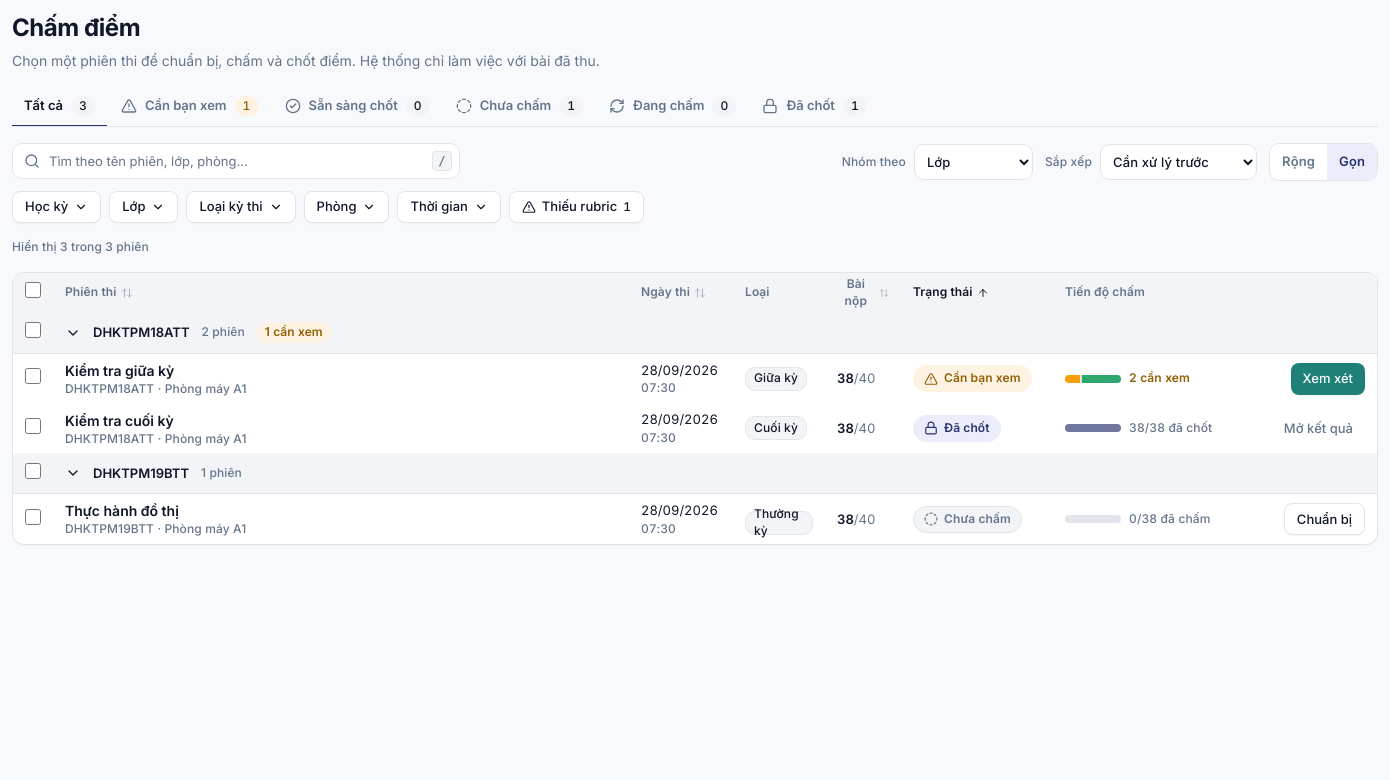
SessionList — review fixes › I4: rows inside a collapsed group are no longer part of the selection
What coordinates should you click on to do the following:
click the checkbox named "Chọn cả nhóm DHKTPM18ATT"
I would click on:
 (33, 330)
Its box is 25,322 -> 41,338.
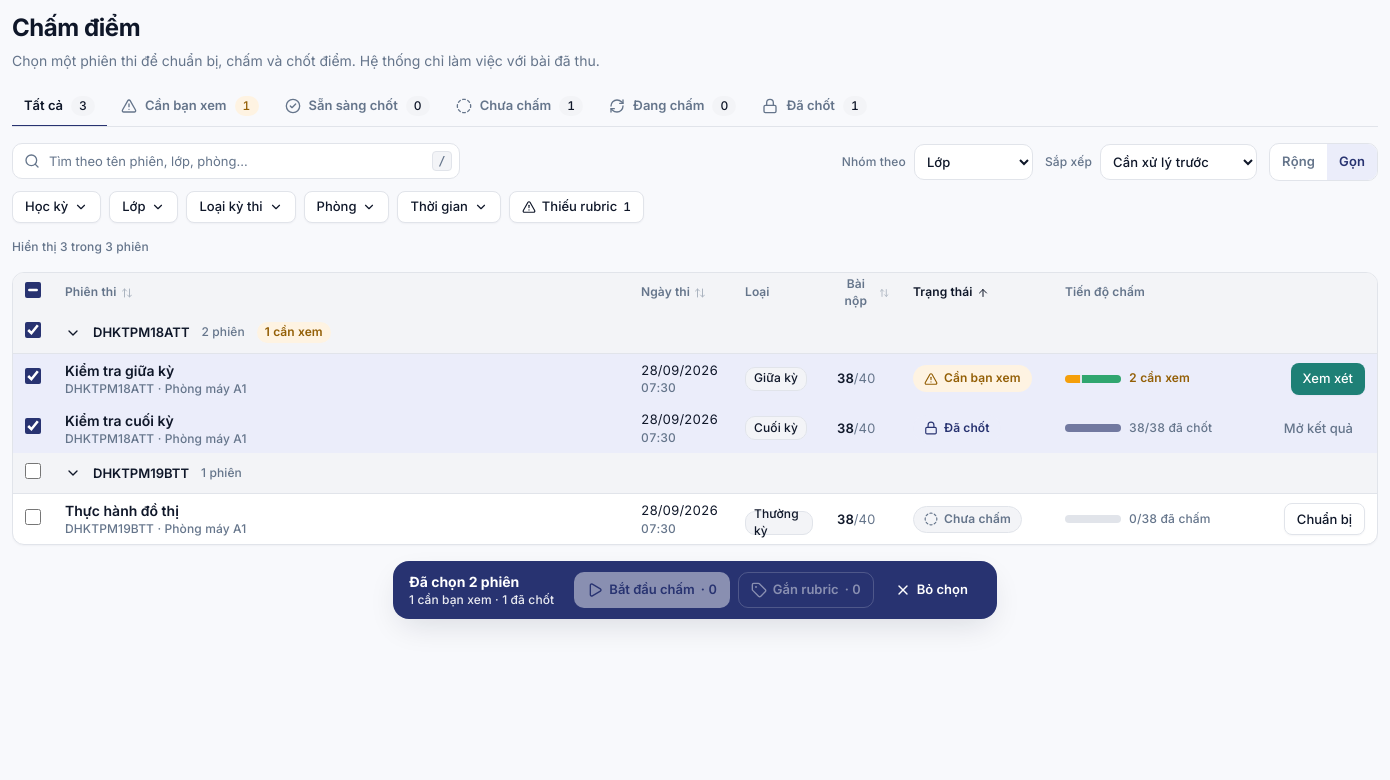
Result: the text "Đã chọn 2 phiên" is shown at 409,573 -> 519,590
What coordinates should you click on to do the following:
click the button "DHKTPM18ATT 2 phiên 1 cần xem"
I would click on:
 (141, 332)
Its box is 53,313 -> 1377,353.
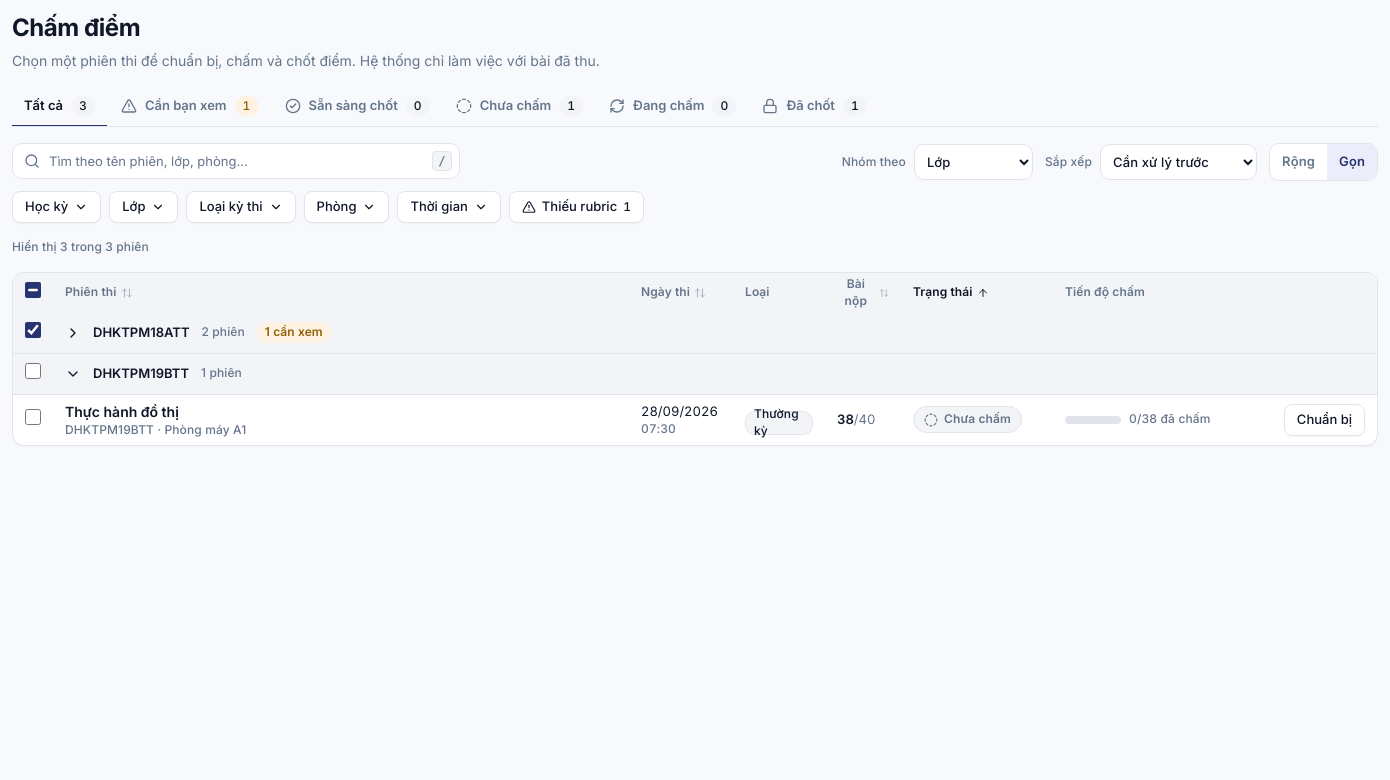
Result: the text "Đã chọn" is gone
